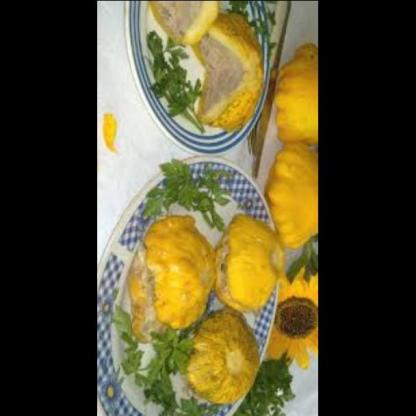squash-patisson: (130, 201, 220, 337), (199, 5, 268, 137), (189, 305, 276, 408), (218, 209, 288, 325), (267, 29, 319, 150), (264, 139, 319, 248), (142, 0, 222, 45)
